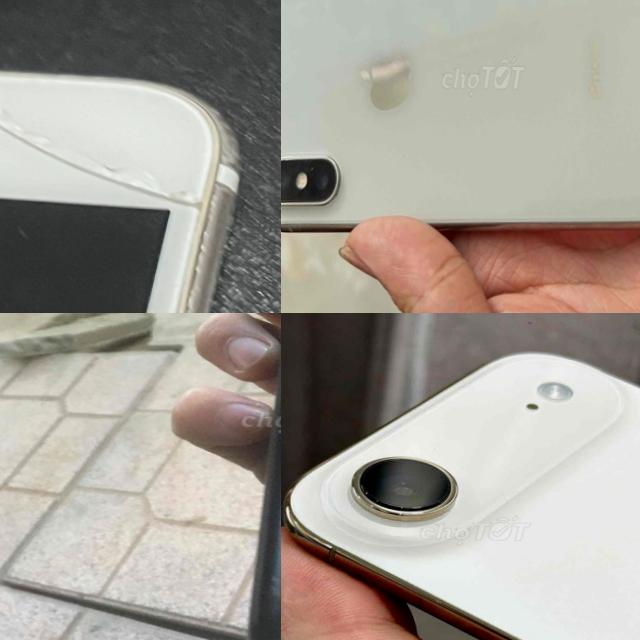gen_17: (281, 341, 640, 640)
gen_7_8: (0, 45, 241, 313), (243, 313, 281, 640)
gen_x_xs: (281, 0, 640, 269)
